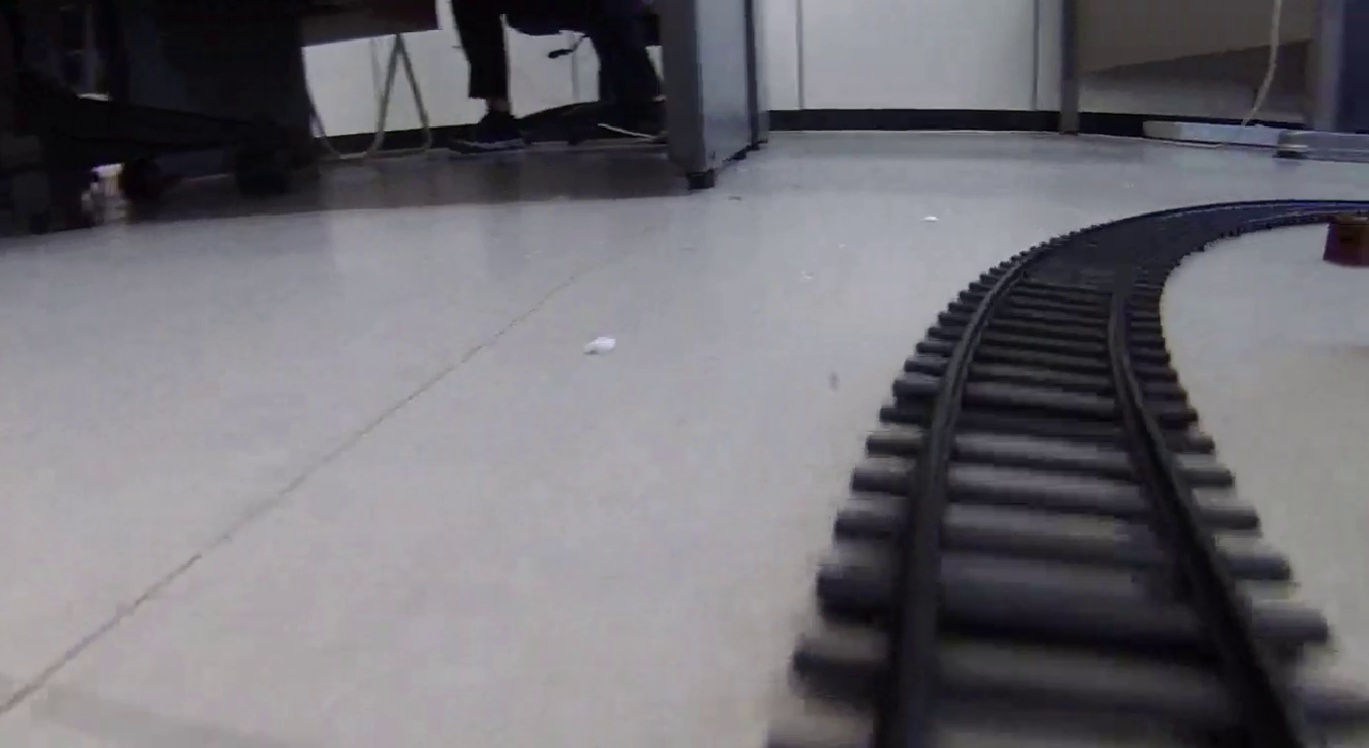box: (1322, 214, 1369, 264)
